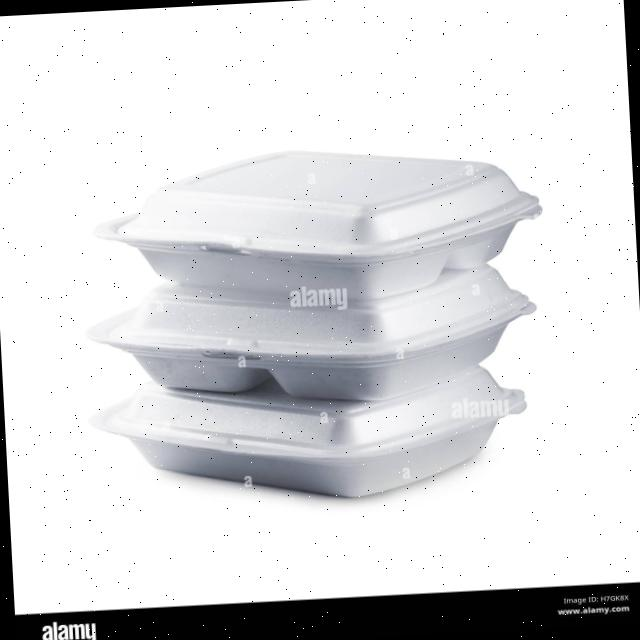styrofoam: (75, 135, 558, 511), (89, 136, 547, 314)
